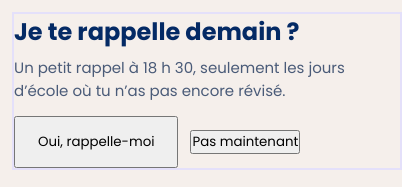
<RappelDemain /> dans l’app iPhone › refus d’iOS : renvoie vers les Réglages de l’iPhone
Click the button "Oui, rappelle-moi": (96, 142) left=14, top=116, right=178, bottom=168
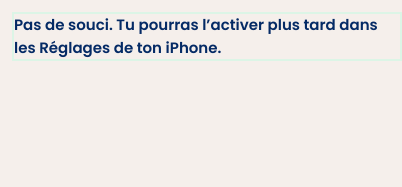
Result: the text "Réglages de ton iPhone" is shown at left=14, top=14, right=378, bottom=58
